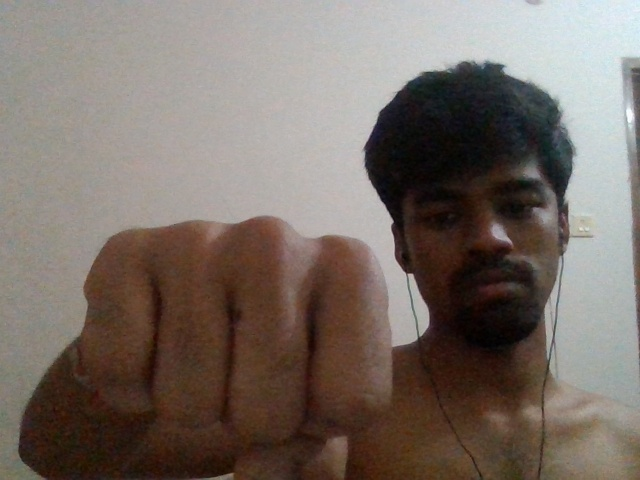Yes: (78, 218, 405, 480)
